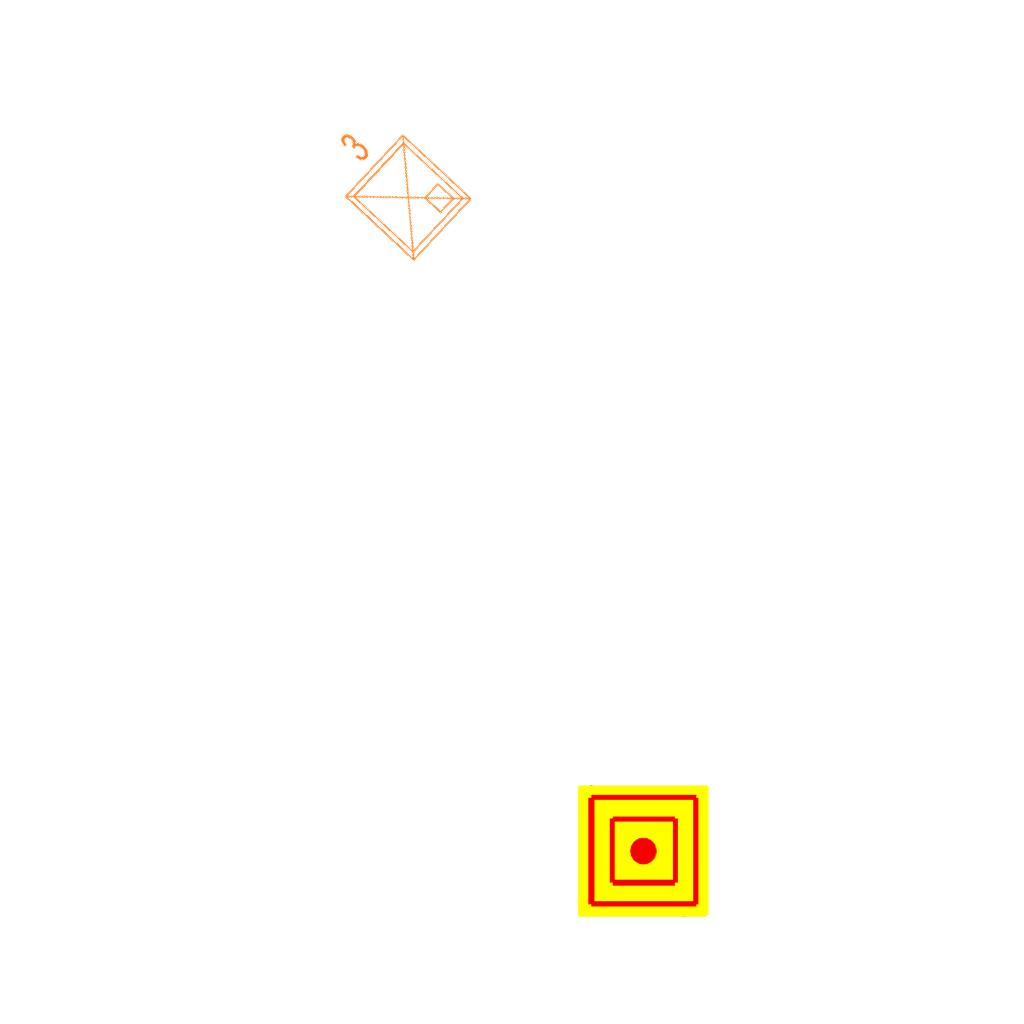Einbaudownlights_LED_Konferenzraeume: (301, 95, 483, 275)
NAM-Nichtautomatischer_Melder: (577, 785, 709, 917)
